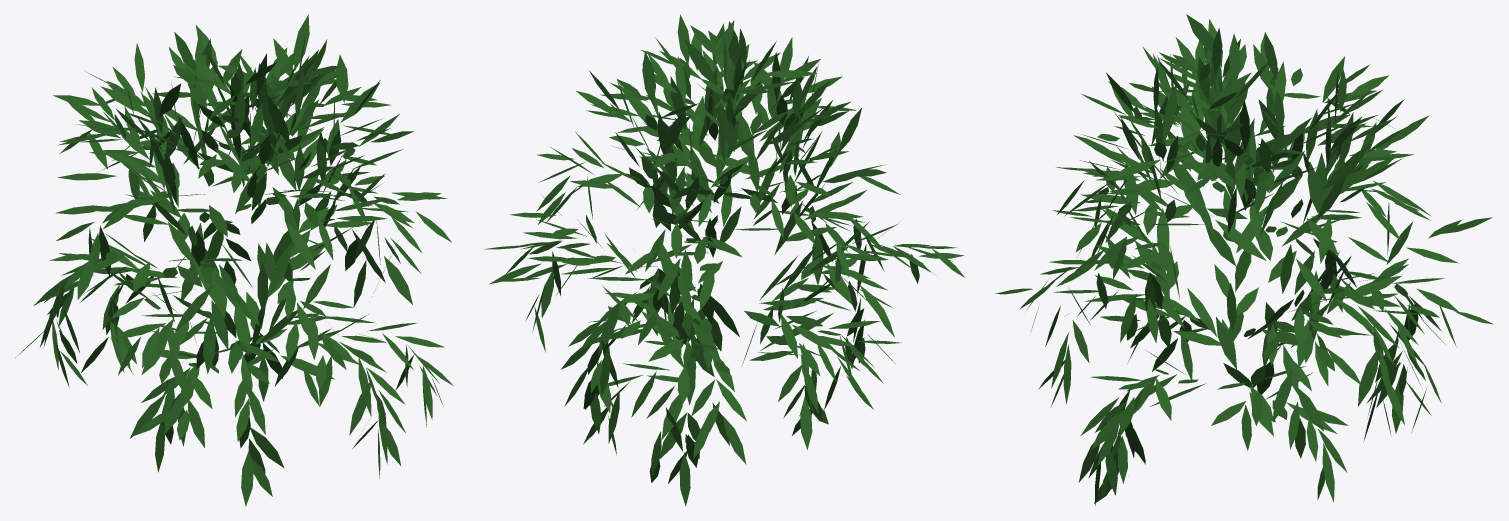
The model's file is tree3.glb.
3 renders of one model, left to right at view 1: azimuth 30°, elevation 25°; view 2: azimuth 150°, elevation 25°; view 3: azimuth 270°, elevation 25°, orthographic. The views are drawn at different scales.
Visible parts, largest first — view 1: leaves; view 2: leaves; view 3: leaves.
Boxes of the visible parts, x1,y1,x2,y2 form: leaves: [15, 14, 453, 506]; leaves: [484, 14, 964, 506]; leaves: [995, 14, 1493, 505].
Bounding box in the file's own units: 6.05 × 6.16 × 6.56.
